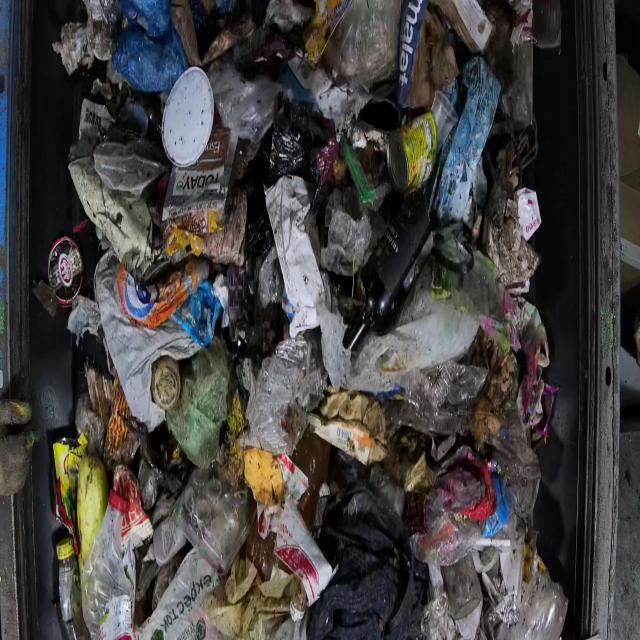cardboard: (24, 0, 570, 638)
cups: (159, 64, 215, 168)
